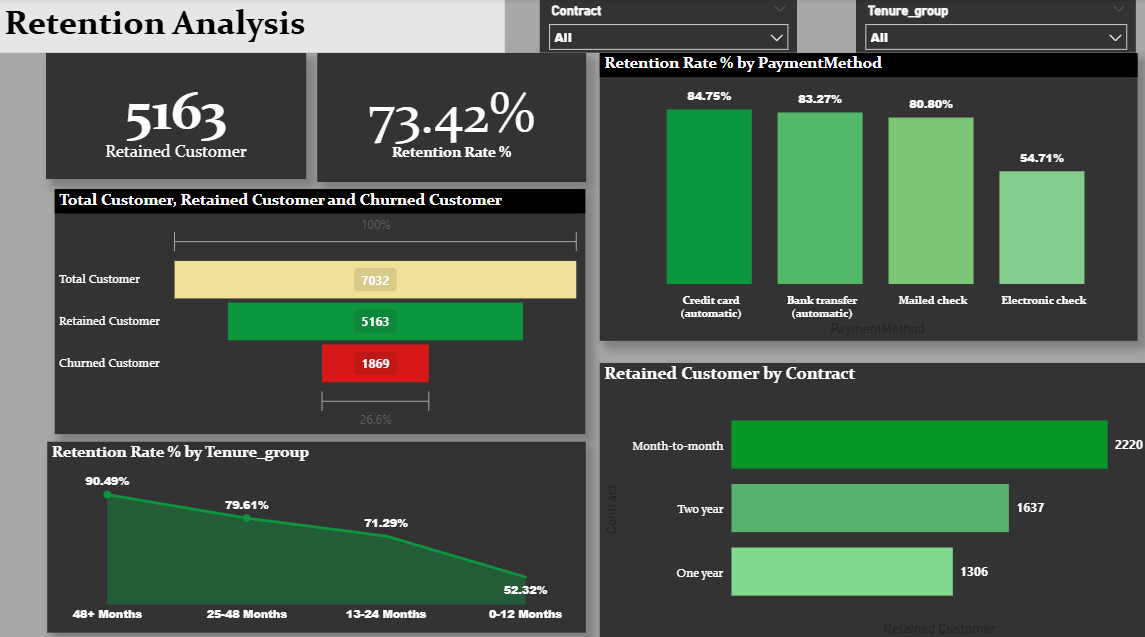

This screenshot's page, from the dashboard's own definition file:
{"tool":"powerbi","page":{"name":"Retention analysis","canvas":[1280,720],"ordinal":2},"visuals":[{"type":"card","fields":{"Values":["Telco-Customer-Churn.Retained Customer"]},"box":[65.9,60.4,285.4,138.6],"z":0},{"type":"card","fields":{"Values":["Telco-Customer-Churn.Retention Rate %"]},"box":[363.6,60.4,295,141.3],"z":1000},{"type":"barChart","fields":{"Category":["Telco-Customer-Churn.Contract"],"Y":["Telco-Customer-Churn.Retained Customer"]},"box":[673.2,400.5,606.8,305.2],"z":2000},{"type":"columnChart","fields":{"Category":["Telco-Customer-Churn.PaymentMethod"],"Y":["Telco-Customer-Churn.Retention Rate %"]},"box":[673.8,60.4,590.1,315.6],"z":3000},{"type":"lineChart","fields":{"Category":["Telco-Customer-Churn.Tenure_group"],"Y":["Telco-Customer-Churn.Retention Rate %"]},"box":[67.2,487.1,591.4,209.9],"z":4000},{"type":"funnel","fields":{"Y":["Telco-Customer-Churn.Total Customer","Telco-Customer-Churn.Retained Customer","Telco-Customer-Churn.Churned Customer"]},"box":[76,209.9,582.7,269],"z":5000},{"type":"textbox","box":[15.1,0,554.4,60.4],"z":6000},{"type":"slicer","fields":{"Values":["Telco-Customer-Churn.Contract"]},"box":[607.9,0,282.7,60.4],"z":7000},{"type":"slicer","fields":{"Values":["Telco-Customer-Churn.Tenure_group"]},"box":[955.1,0,307.4,60.4],"z":8000}]}

Visuals, with their boxes in screenshot pixels (x1, y1, x2, y2), scaled from the page's 1280x720 canvas onto the 1145x637 screenshot:
card - Telco-Customer-Churn.Retained Customer: left=59, top=53, right=314, bottom=176
card - Telco-Customer-Churn.Retention Rate %: left=325, top=53, right=589, bottom=178
barChart - Telco-Customer-Churn.Contract x Telco-Customer-Churn.Retained Customer: left=602, top=354, right=1144, bottom=624
columnChart - Telco-Customer-Churn.PaymentMethod x Telco-Customer-Churn.Retention Rate %: left=603, top=53, right=1131, bottom=333
lineChart - Telco-Customer-Churn.Tenure_group x Telco-Customer-Churn.Retention Rate %: left=60, top=431, right=589, bottom=617
funnel - Telco-Customer-Churn.Total Customer x Telco-Customer-Churn.Retained Customer: left=68, top=186, right=589, bottom=424
textbox: left=14, top=0, right=509, bottom=53
slicer - Telco-Customer-Churn.Contract: left=544, top=0, right=797, bottom=53
slicer - Telco-Customer-Churn.Tenure_group: left=854, top=0, right=1129, bottom=53
